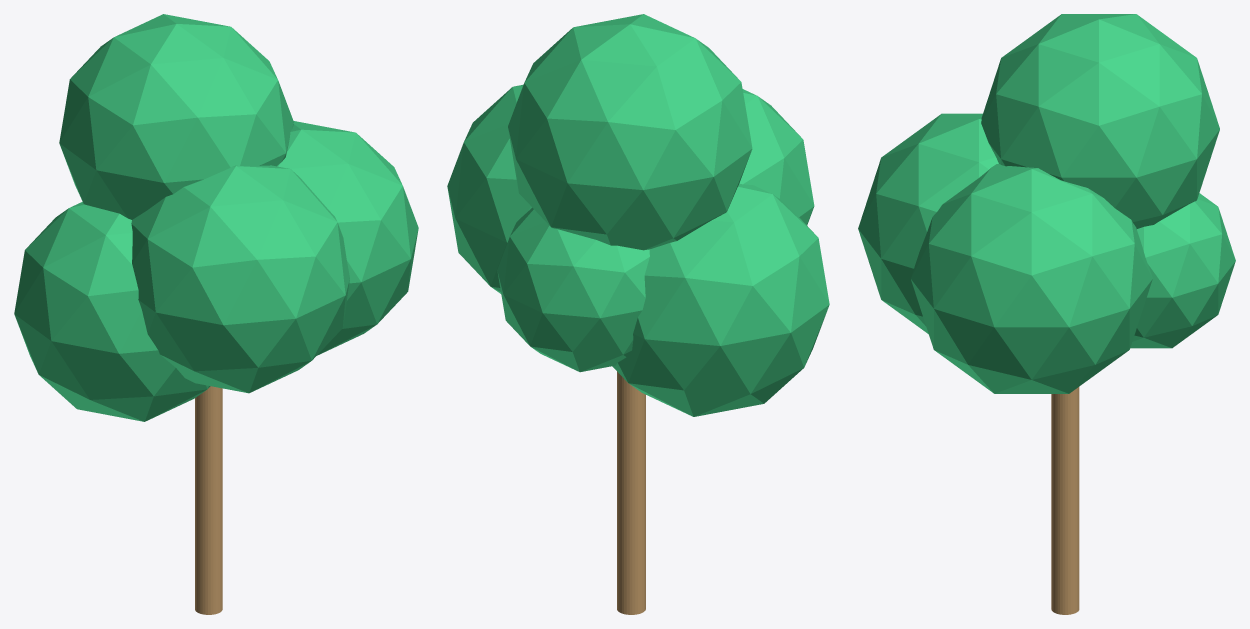
File: tree5.fbx
3 views of the same model, side by side, from view 1: azimuth 30°, elevation 25°; view 2: azimuth 150°, elevation 25°; view 3: azimuth 270°, elevation 25° (orthographic). The views are drawn at different scales.
Parts seen in each view (by area): view 1: Icosphere, Icosphere.001, Icosphere.003, Icosphere.002, Cylinder; view 2: Icosphere.001, Icosphere.003, Icosphere.004, Icosphere.002, Cylinder, Icosphere; view 3: Icosphere.002, Icosphere.001, Icosphere, Icosphere.004, Cylinder.
Boxes of the visible parts, bbox=[...] form: Icosphere: bbox=[131, 165, 349, 393]; Icosphere.001: bbox=[59, 14, 293, 219]; Icosphere.003: bbox=[14, 202, 210, 421]; Icosphere.002: bbox=[277, 121, 418, 355]; Cylinder: bbox=[195, 386, 222, 614]; Icosphere.001: bbox=[508, 14, 752, 250]; Icosphere.003: bbox=[612, 184, 829, 416]; Icosphere.004: bbox=[497, 207, 649, 372]; Icosphere.002: bbox=[447, 84, 531, 293]; Cylinder: bbox=[617, 371, 645, 614]; Icosphere: bbox=[739, 89, 814, 225]; Icosphere.002: bbox=[910, 164, 1152, 393]; Icosphere.001: bbox=[981, 14, 1219, 228]; Icosphere: bbox=[858, 113, 998, 333]; Icosphere.004: bbox=[1130, 193, 1235, 348]; Cylinder: bbox=[1051, 387, 1079, 614].
Size of the model in its own units: 335 by 530 by 312.
